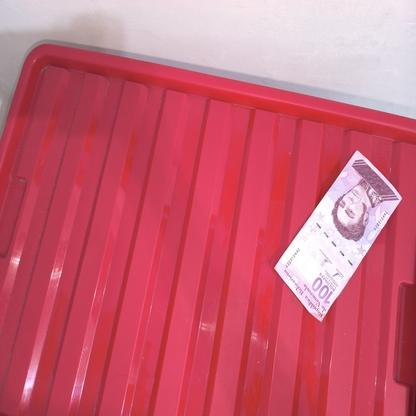one_hundred-front-vef: (273, 148, 403, 322)
